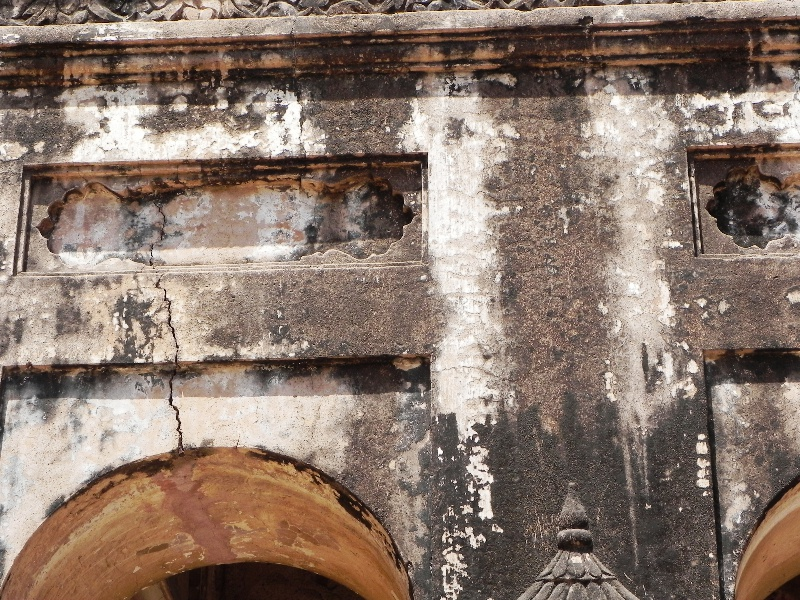Crack: (149, 273, 189, 451)
